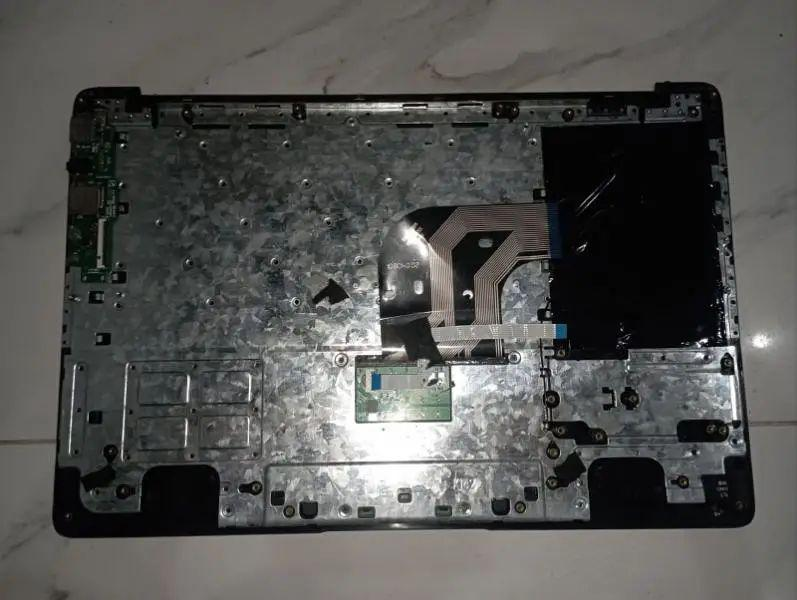electronic: (46, 71, 760, 544)
